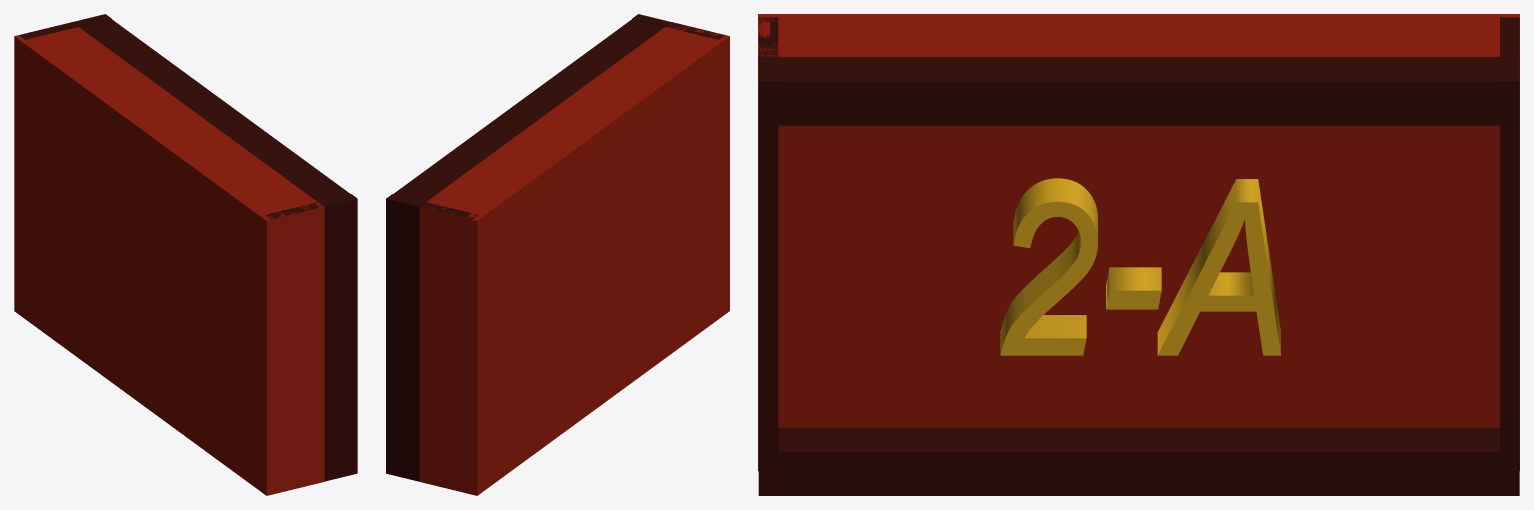
The picture shows the model from 3 angles, left to right: view 1: azimuth 30°, elevation 25°; view 2: azimuth 150°, elevation 25°; view 3: azimuth 270°, elevation 25°; orthographic projection. The views are drawn at different scales.
Visible parts, largest first — view 1: Text; view 2: Text; view 3: Text.
Part boxes in pixels (x1,y1,x2,y2): Text: (14, 14, 357, 495); Text: (386, 14, 729, 495); Text: (758, 14, 1519, 495).
Size of the model in its own units: 69.49 by 200 by 333.
